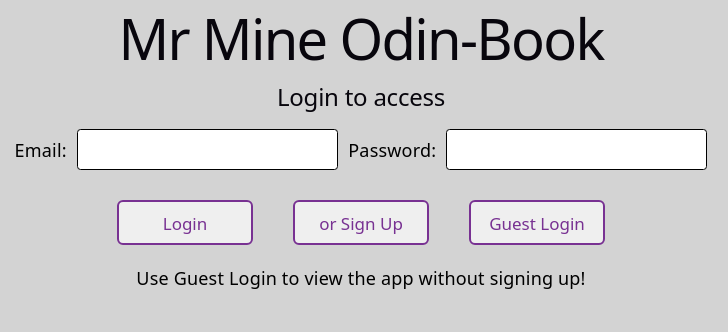
Test case: Login component › shows an authentication failure for rejected credentials
In the field labelled "Email:": coordinates (208, 150) [77,129,338,170], type "test@example.com"
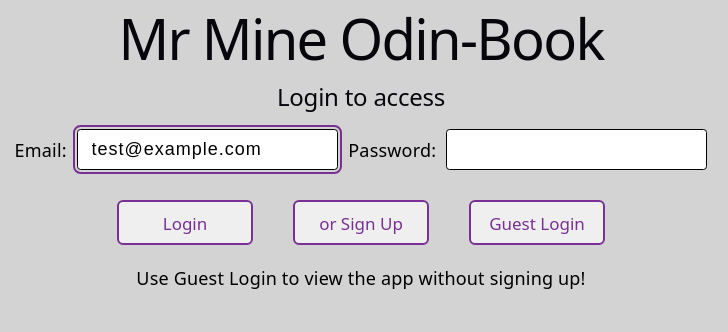
In the password field labelled "Password:": coordinates (577, 150) [446,129,707,170], type "wrong-password"
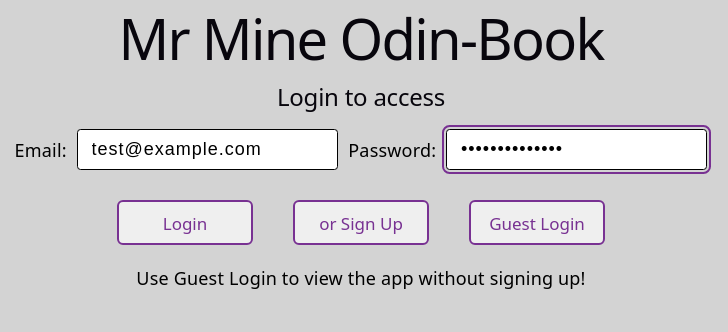
Click the button "Login": coordinates (185, 222) [117,200,253,245]
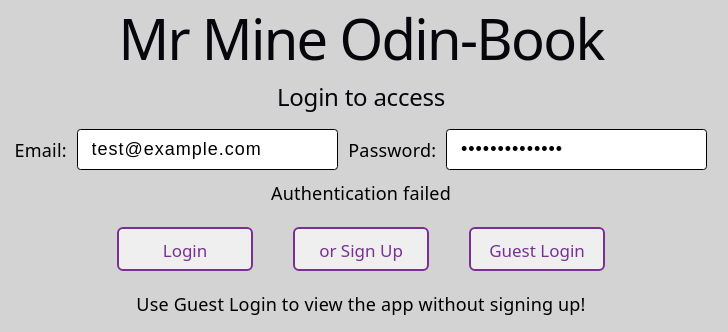
expect the button "Login" is shown: met, box [117,226,253,271]
expect the text "Authentication failed" is shown: met, box [271,181,451,205]
